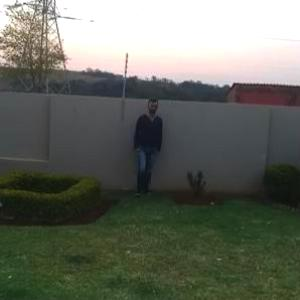follow: (132, 95, 164, 200)
